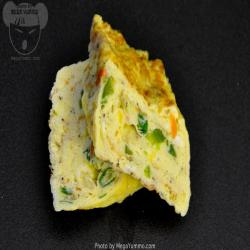omelette: (46, 19, 197, 227)
